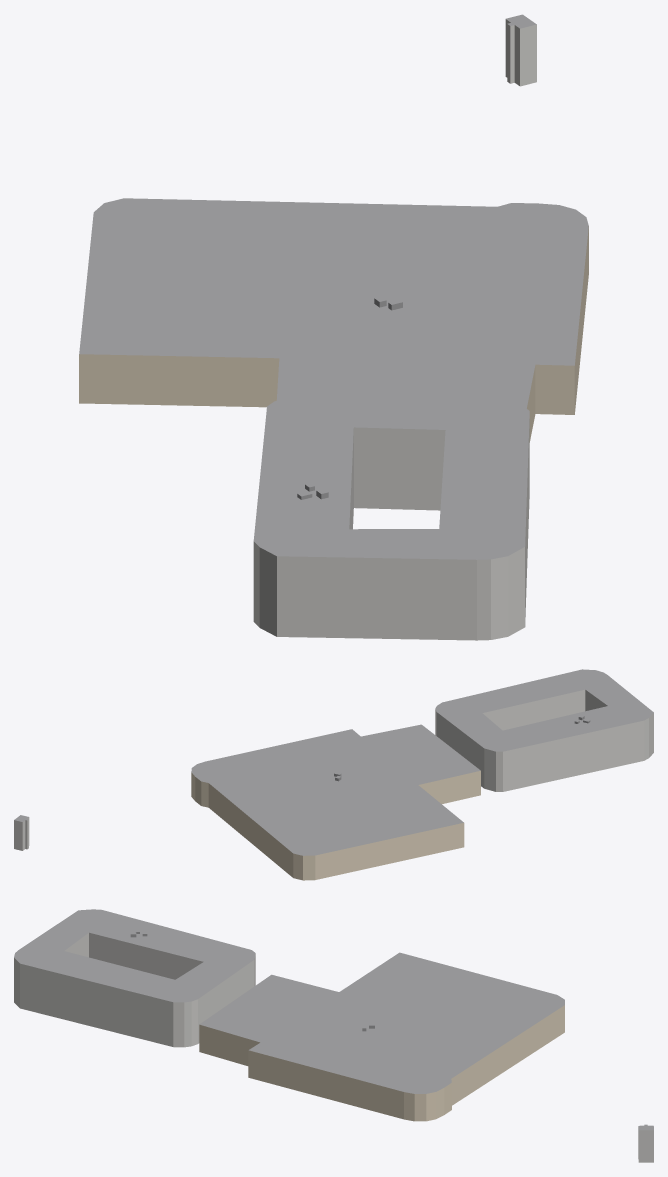
Rendered from building_-4_-2.glb.
3 renders of one model, top to bottom at view 1: azimuth 30°, elevation 25°; view 2: azimuth 150°, elevation 25°; view 3: azimuth 270°, elevation 25°, orthographic. The views are drawn at different scales.
Visible parts, largest first — view 1: roof, concrete_light, sandstone; view 2: roof, concrete_light, sandstone; view 3: roof, concrete_light, sandstone.
Part boxes in pixels (box(x1,y1,x2,y2)): roof: box(79, 14, 588, 559); concrete_light: box(253, 19, 536, 640); sandstone: box(79, 226, 588, 442); roof: box(14, 669, 653, 855); concrete_light: box(14, 689, 653, 850); sandstone: box(191, 770, 480, 880); roof: box(14, 909, 653, 1130); concrete_light: box(14, 932, 653, 1162); sandstone: box(199, 1005, 564, 1121).
Size of the model in its own units: 199 by 21.3 by 258.
